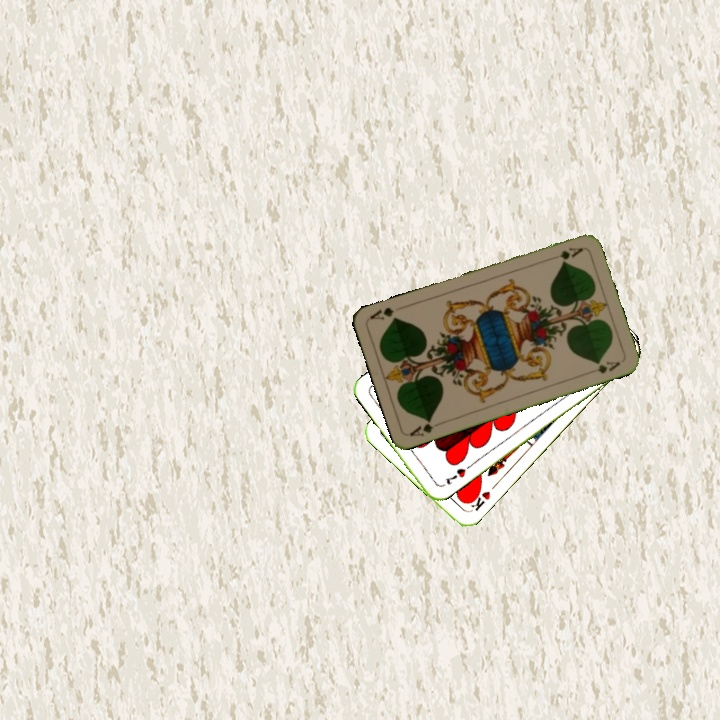GA: (406, 415, 445, 439), (546, 243, 586, 262)
H7: (440, 461, 473, 487)
HK: (464, 485, 493, 514)
